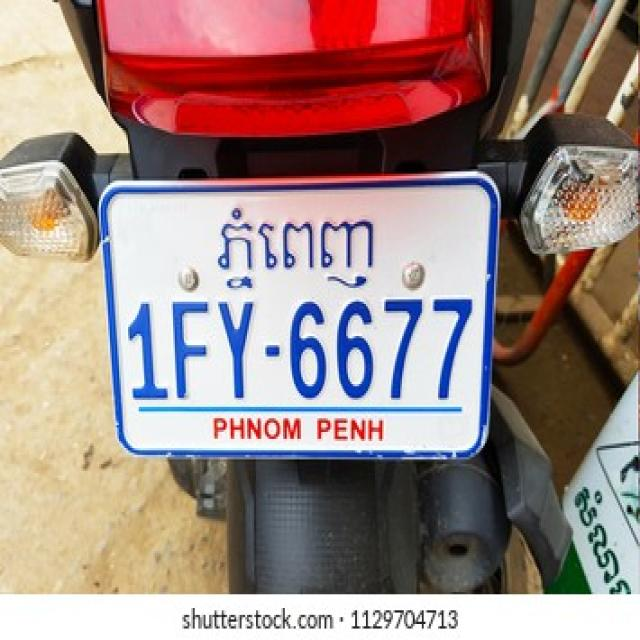number plate: (96, 167, 501, 459)
